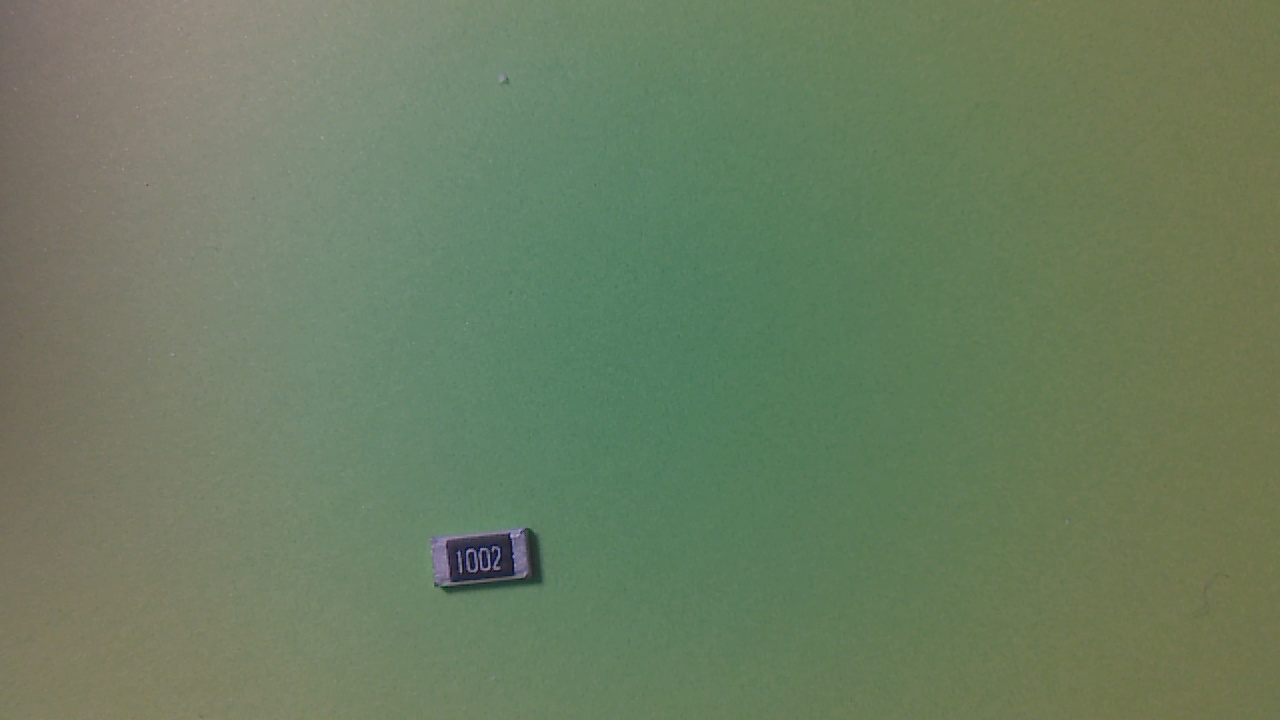Resistor: (431, 532, 546, 596)
